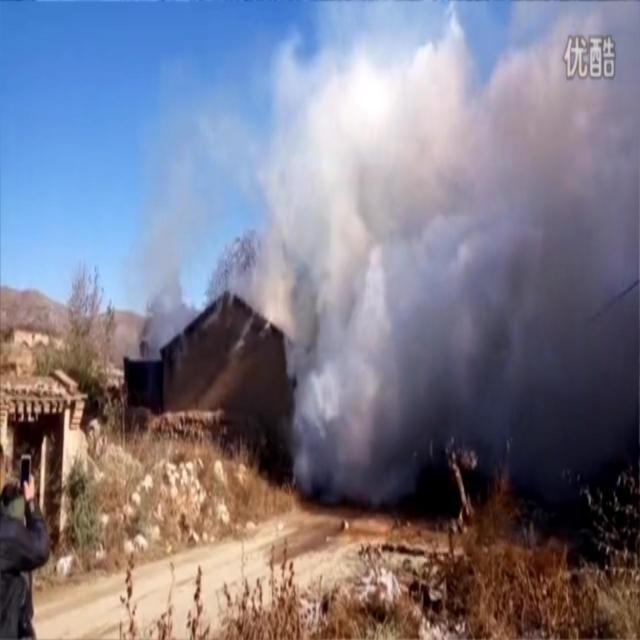Smoke: (136, 1, 640, 506)
